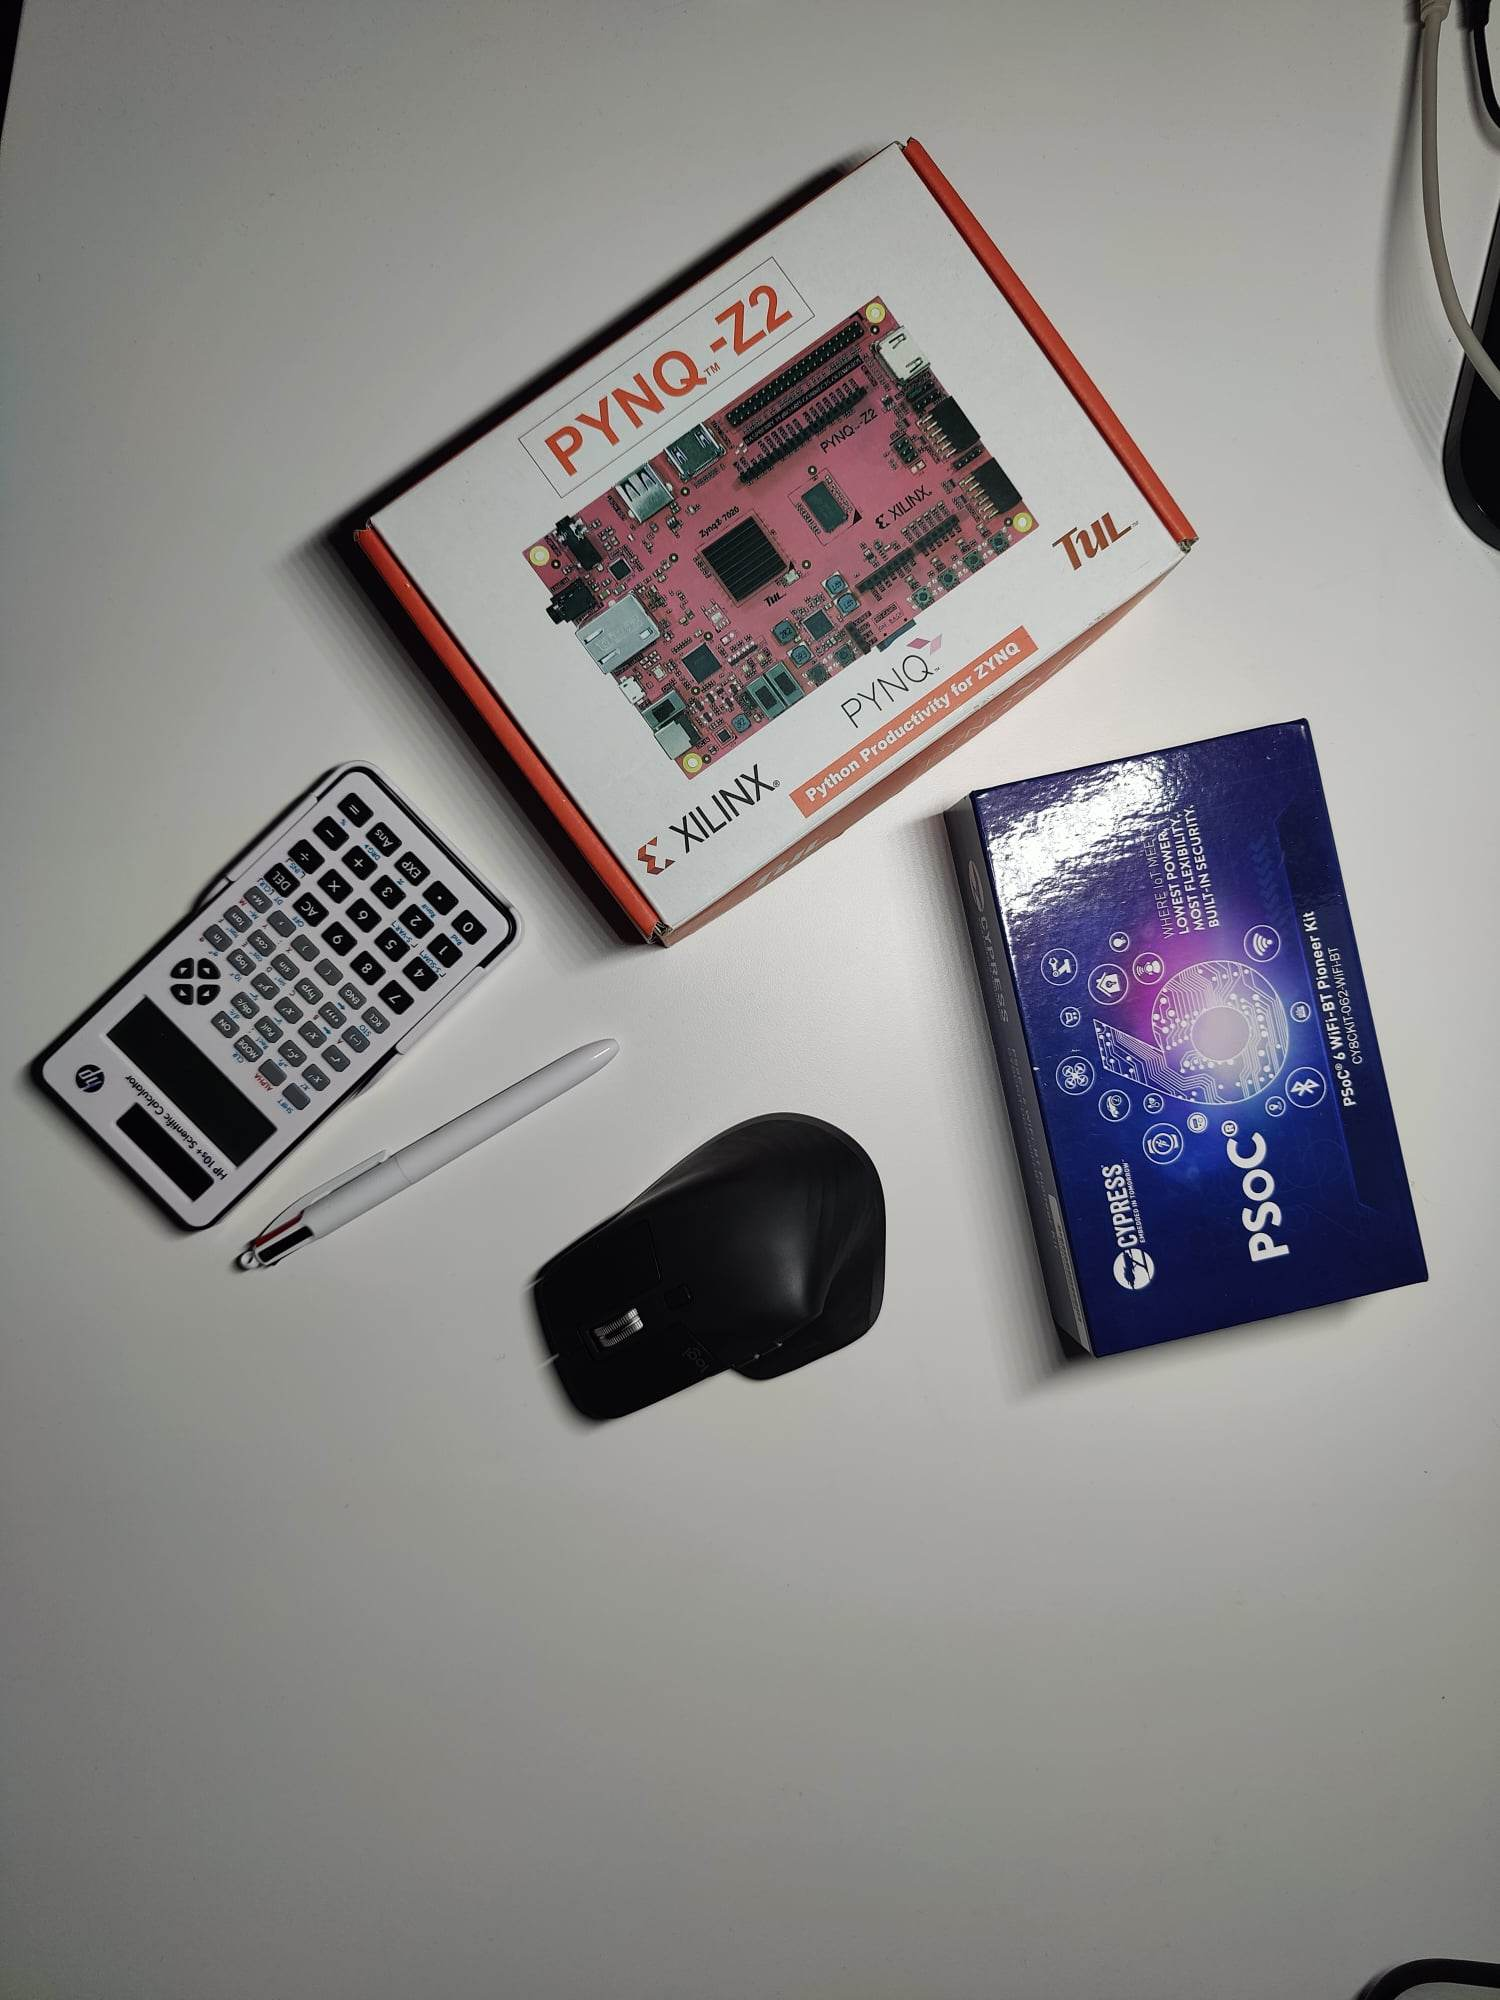Muis: (499, 1090, 925, 1443)
PSoC_6: (922, 690, 1462, 1375)
PYNQ doos: (303, 112, 1224, 965)
Pen: (213, 1020, 629, 1287)
Rekenmachine: (13, 737, 531, 1250)
